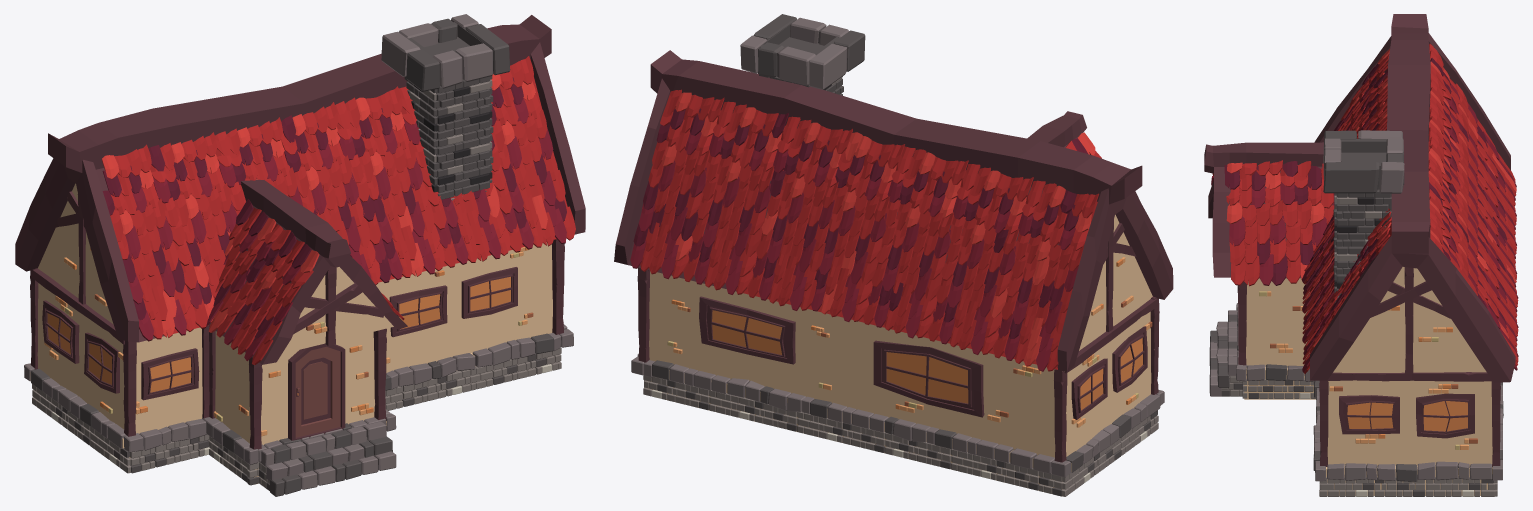
Rendered from casa-pedra5.fbx.
3 views of the same model, side by side, from view 1: azimuth 30°, elevation 25°; view 2: azimuth 150°, elevation 25°; view 3: azimuth 270°, elevation 25° (orthographic). The views are drawn at different scales.
Visible parts, largest first — view 1: Cube.082, Cube.040; view 2: Cube.082; view 3: Cube.082.
Part boxes in pixels (x1,y1,x2,y2): Cube.082: [15, 14, 585, 496]; Cube.040: [295, 346, 340, 437]; Cube.082: [614, 14, 1173, 496]; Cube.082: [1204, 14, 1518, 496].
Size of the model in its own units: 1099 by 726 by 673.
